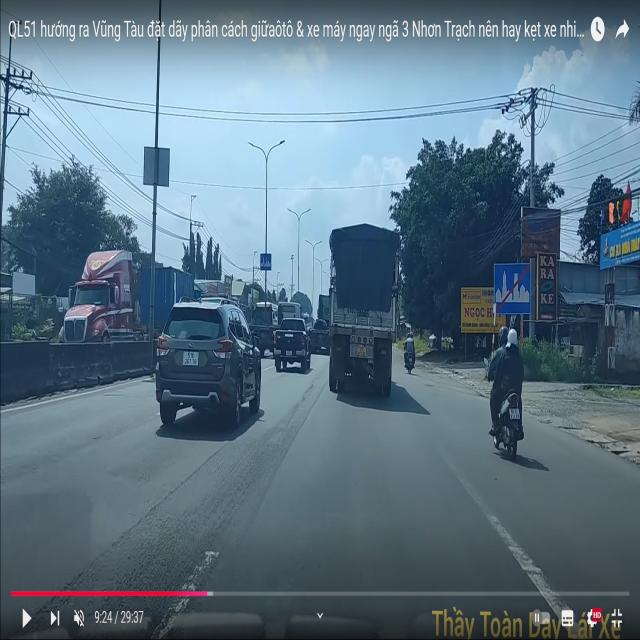Bien hieu lenh het khu dong dan cu: (493, 259, 534, 317)
